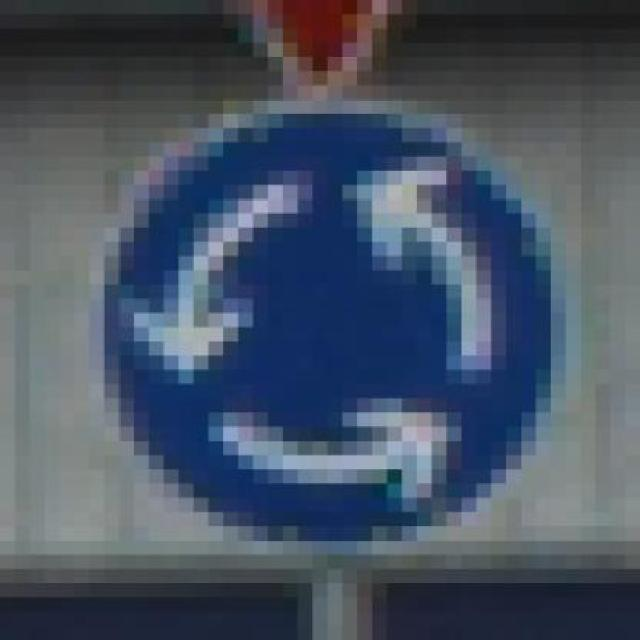Round-About: (59, 85, 581, 569)
